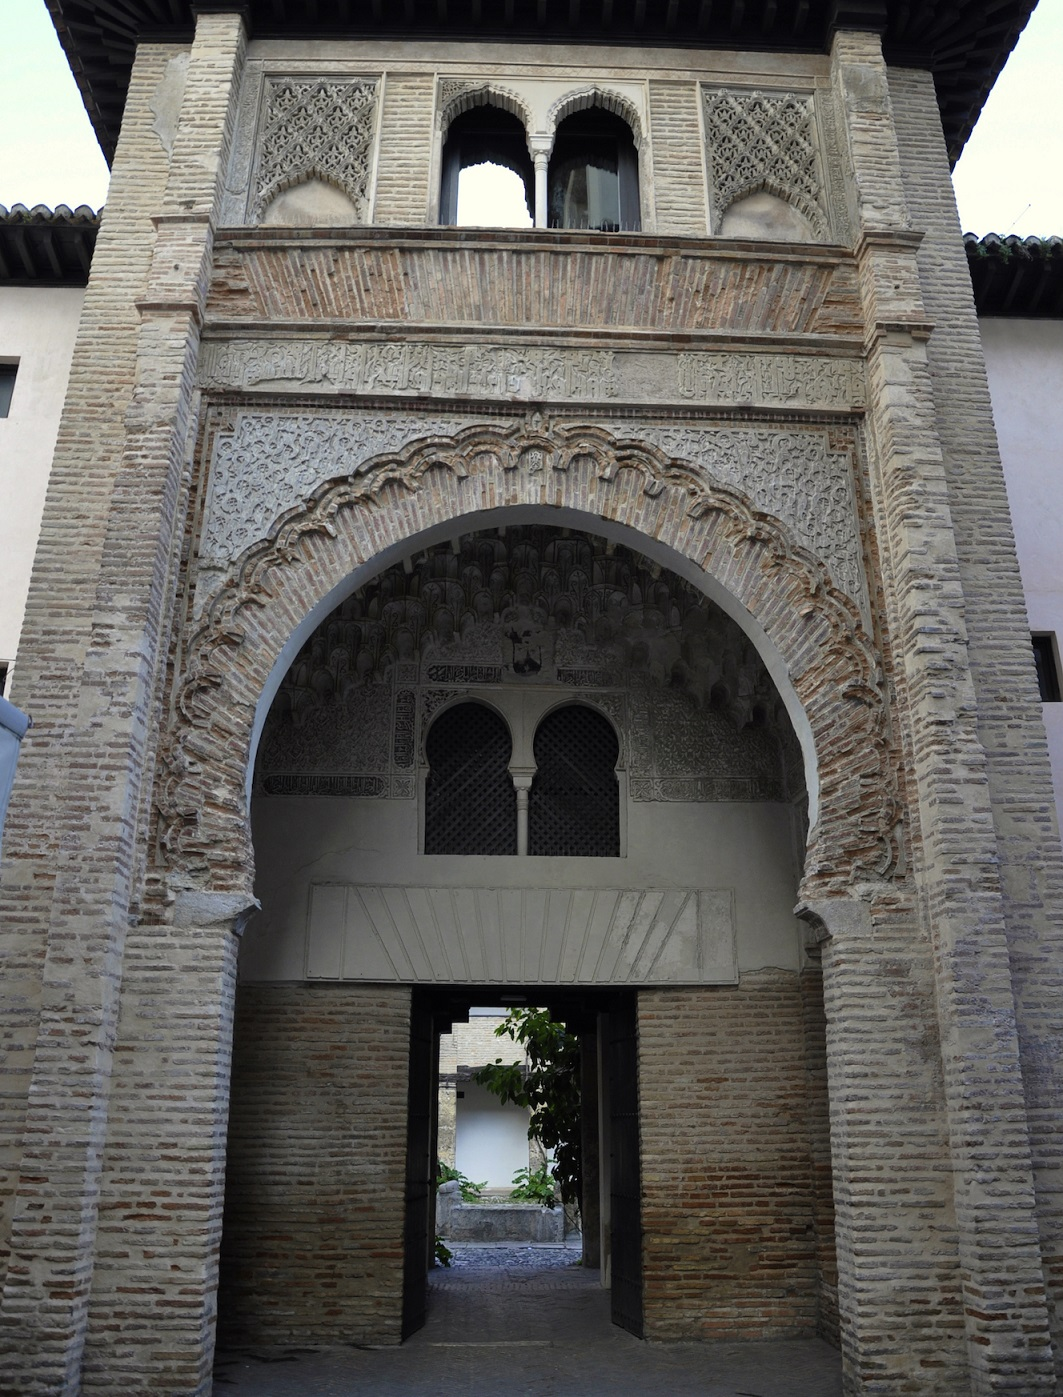arco-herradura: (210, 487, 851, 964), (418, 691, 523, 790), (526, 691, 628, 786)
dintel-adovelado: (237, 237, 829, 341), (349, 881, 695, 983)
